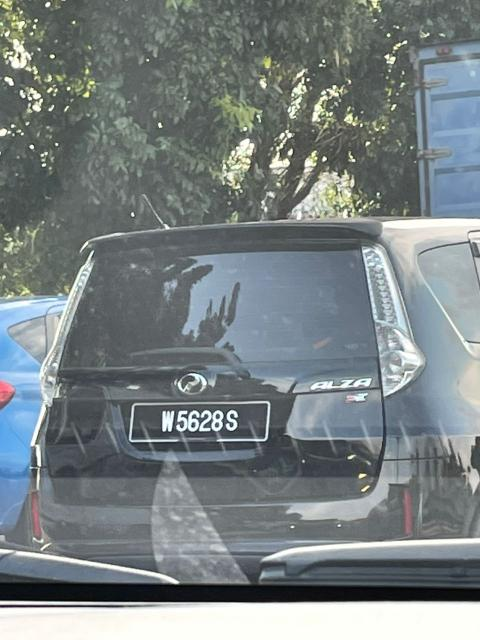License_Plate: (134, 403, 264, 443)
car: (31, 216, 480, 574)
